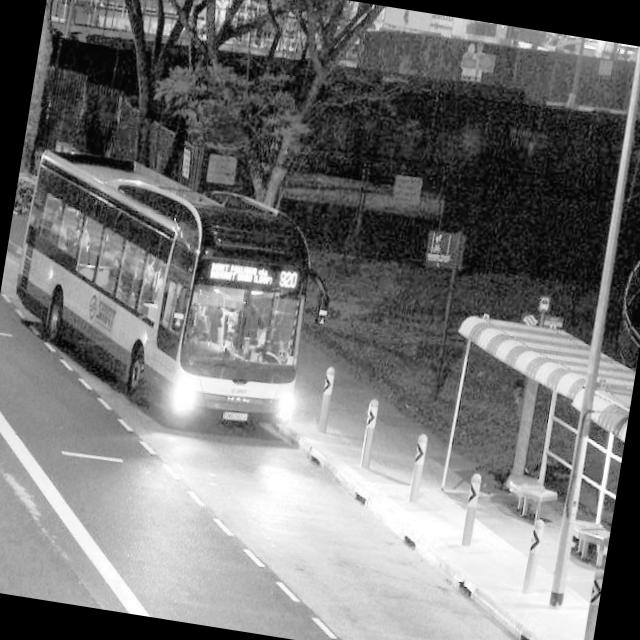Bus: (0, 128, 354, 467)
